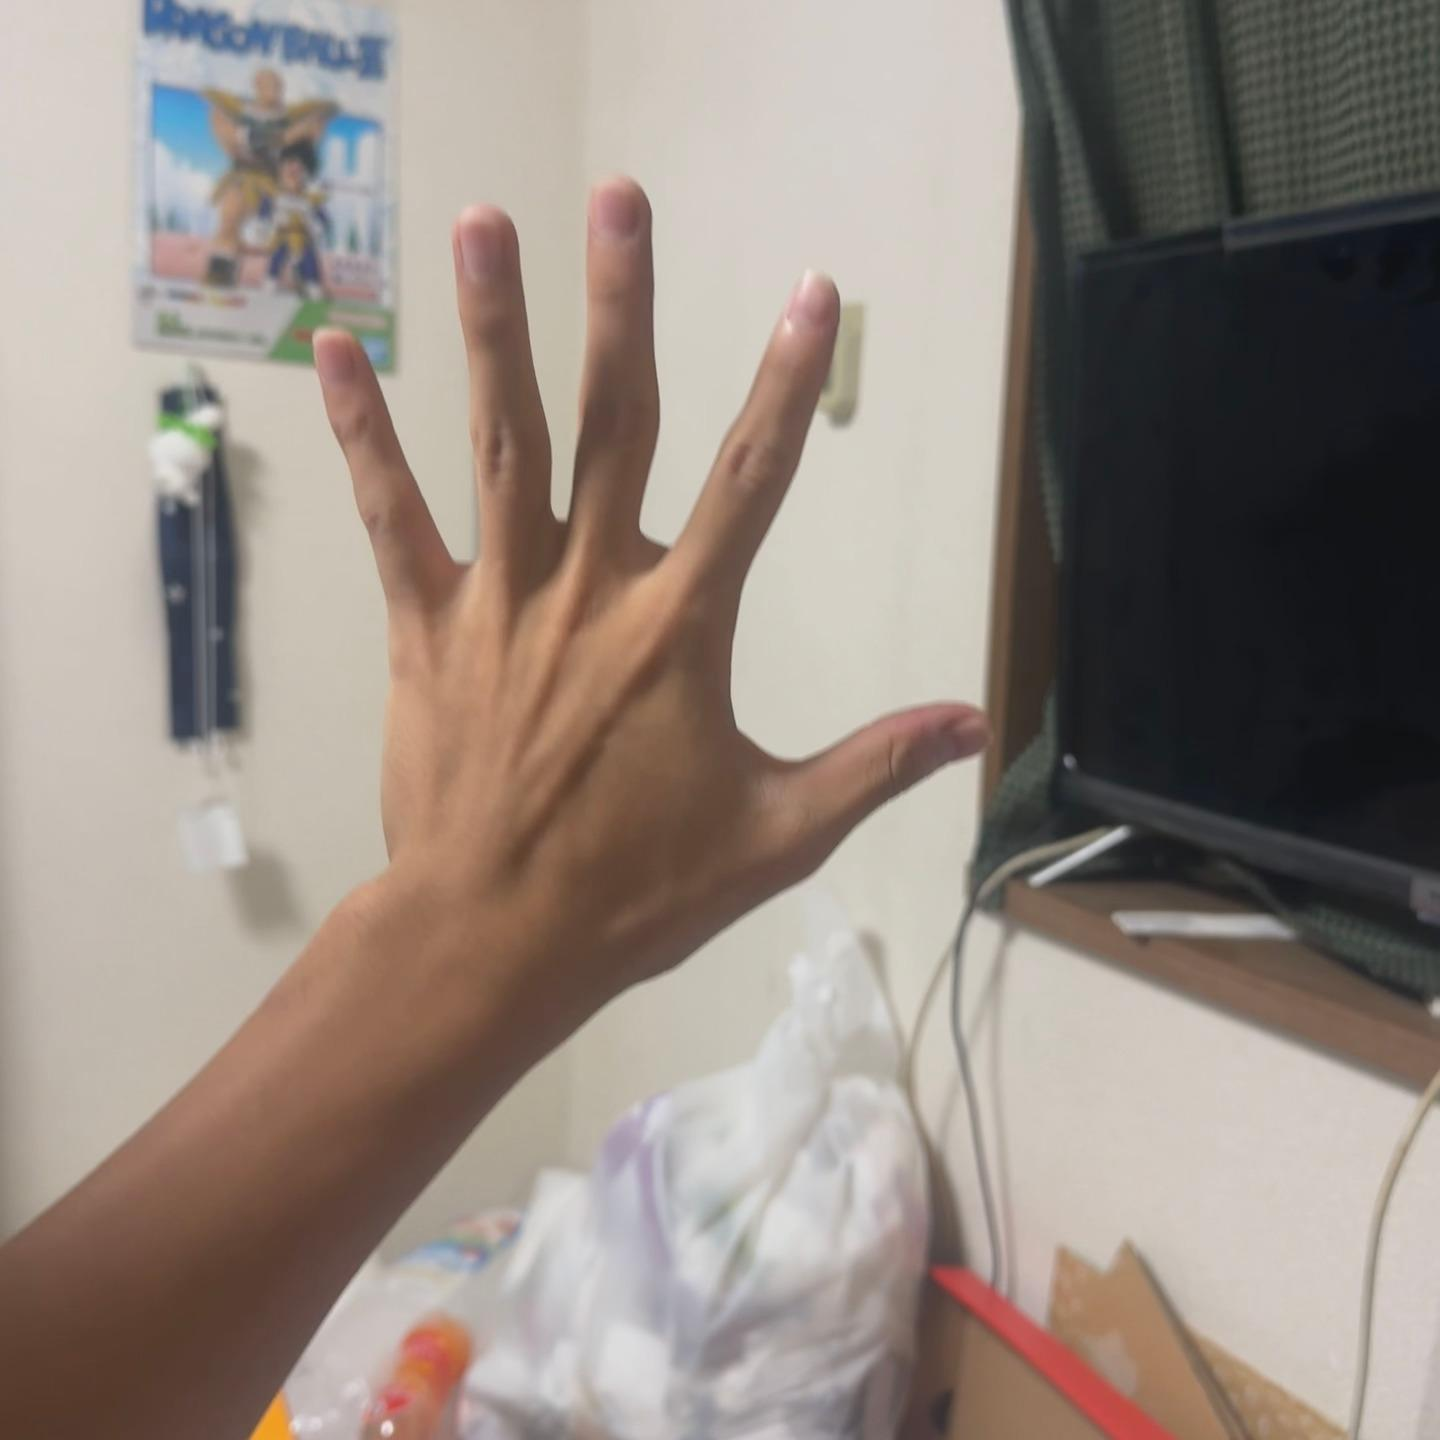without_gloves: (120, 80, 1238, 1048)
